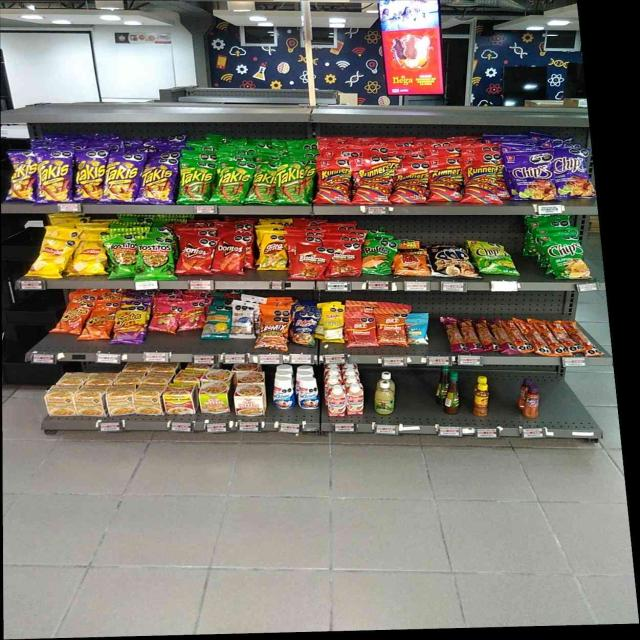bitzAlmendras: (408, 320, 428, 344)
bitzEnchilado90: (346, 312, 376, 347), (378, 312, 406, 346)
bitzEnchilado95: (528, 318, 594, 354), (511, 319, 526, 352)
bitzHabanero: (446, 318, 461, 352), (494, 319, 508, 353), (463, 319, 477, 352), (478, 318, 492, 351)
bokadosCacahuates: (292, 308, 318, 346)
botaneraChilito: (473, 383, 489, 417)
cheetosFlaminHot: (116, 308, 143, 344)
cheetosOriginal: (87, 310, 111, 339), (61, 305, 82, 332)
chipsFuego: (509, 152, 554, 199), (556, 149, 590, 198)
chipsJalapeno: (547, 236, 586, 279)
chipsPapatinas: (476, 242, 512, 272)
churrumais: (178, 302, 204, 329), (151, 304, 176, 332)
delPrimoSalsa: (373, 380, 395, 416)
doritosNacho: (180, 236, 211, 274), (217, 232, 245, 274)
fritosLimon: (259, 232, 287, 270)
hotNutsOriginal: (397, 252, 428, 276)
leoCacahuates: (232, 305, 255, 338)
leoMix: (259, 316, 287, 349)
maruchanPollo: (76, 386, 105, 416), (46, 386, 75, 416), (136, 385, 163, 415), (108, 386, 134, 414)
maruchanRes: (165, 384, 197, 414)
nestleCarnation: (346, 384, 364, 415), (327, 384, 344, 416)
nestleLechera: (297, 377, 319, 410), (274, 377, 294, 410)
nissinCamaron: (200, 384, 230, 414)
nissinRes: (234, 384, 267, 416)
popKarameladas: (431, 246, 472, 276)
rancheritos: (328, 241, 360, 275), (293, 245, 325, 279)
rufflesQueso: (364, 239, 392, 274)
runners: (354, 160, 388, 204), (465, 160, 498, 203), (317, 164, 349, 204), (394, 164, 426, 203), (430, 164, 461, 200)
sabritasOriginal: (34, 239, 72, 278), (75, 239, 104, 275)
salsaBufalo: (444, 371, 459, 415), (436, 367, 443, 406)
semillasCalabaza: (322, 308, 342, 343)
semillasGirasol: (206, 312, 229, 341)
tajinDulce: (522, 385, 540, 419)
takisFuego: (142, 153, 176, 204), (38, 152, 71, 203), (8, 152, 36, 203), (75, 150, 103, 201), (108, 152, 136, 203)
takisOriginal: (277, 161, 308, 206), (215, 162, 246, 205), (181, 159, 211, 203), (249, 164, 275, 205)
tostitos: (137, 236, 174, 279), (107, 235, 135, 277)
